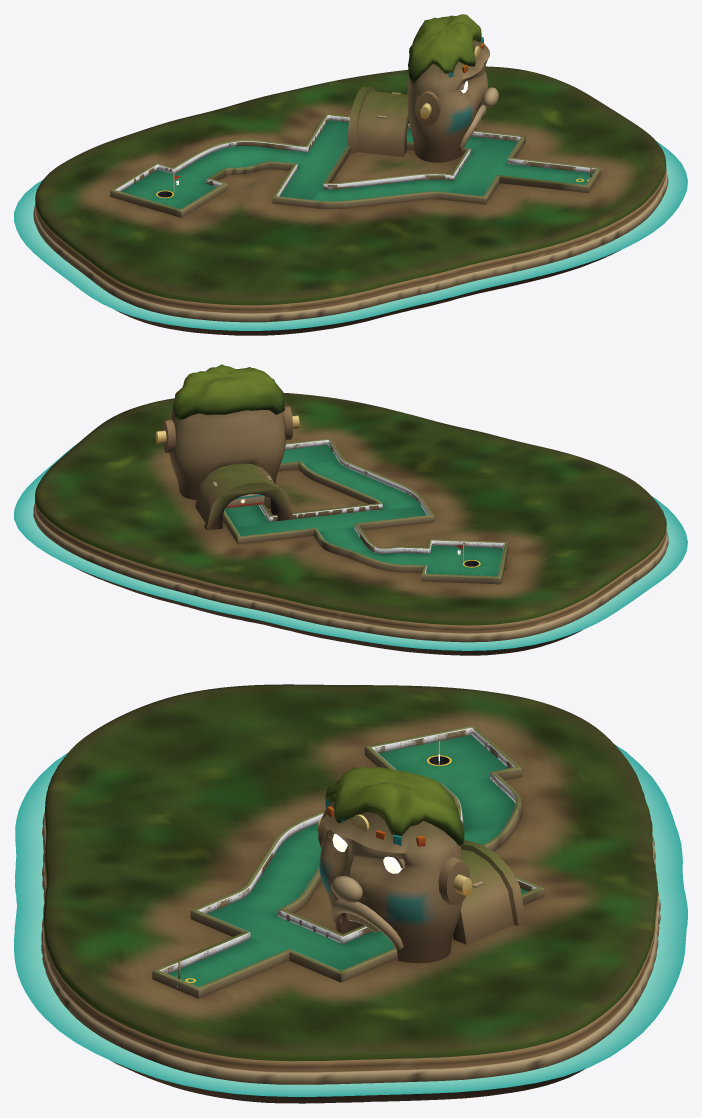
File: course-09.glb
The picture shows the model from 3 angles, top to bottom: view 1: azimuth 30°, elevation 25°; view 2: azimuth 150°, elevation 25°; view 3: azimuth 270°, elevation 25°; orthographic projection. The views are drawn at different scales.
Visible parts, largest first — view 1: scenery-matte, floor-felt, water-shore, rail-trim, rail-stone; view 2: scenery-matte, water-shore, floor-felt, rail-trim, rail-stone; view 3: scenery-matte, water-shore, floor-felt, rail-trim, rail-stone, scenery-satin.
Boxes of the visible parts, x1,y1,x2,y2 form: scenery-matte: [33, 14, 668, 335]; floor-felt: [121, 120, 592, 209]; water-shore: [14, 141, 687, 330]; rail-trim: [110, 113, 600, 217]; rail-stone: [115, 115, 596, 209]; scenery-matte: [33, 364, 668, 655]; water-shore: [14, 442, 687, 650]; floor-felt: [224, 445, 503, 576]; rail-trim: [222, 438, 508, 584]; rail-stone: [224, 440, 504, 576]; scenery-matte: [41, 684, 660, 1103]; water-shore: [14, 745, 687, 1096]; floor-felt: [168, 735, 527, 986]; rail-trim: [152, 725, 544, 998]; rail-stone: [159, 727, 536, 987]; scenery-satin: [185, 741, 471, 982].
Size of the model in its own units: 29.32 by 7.81 by 21.09.
